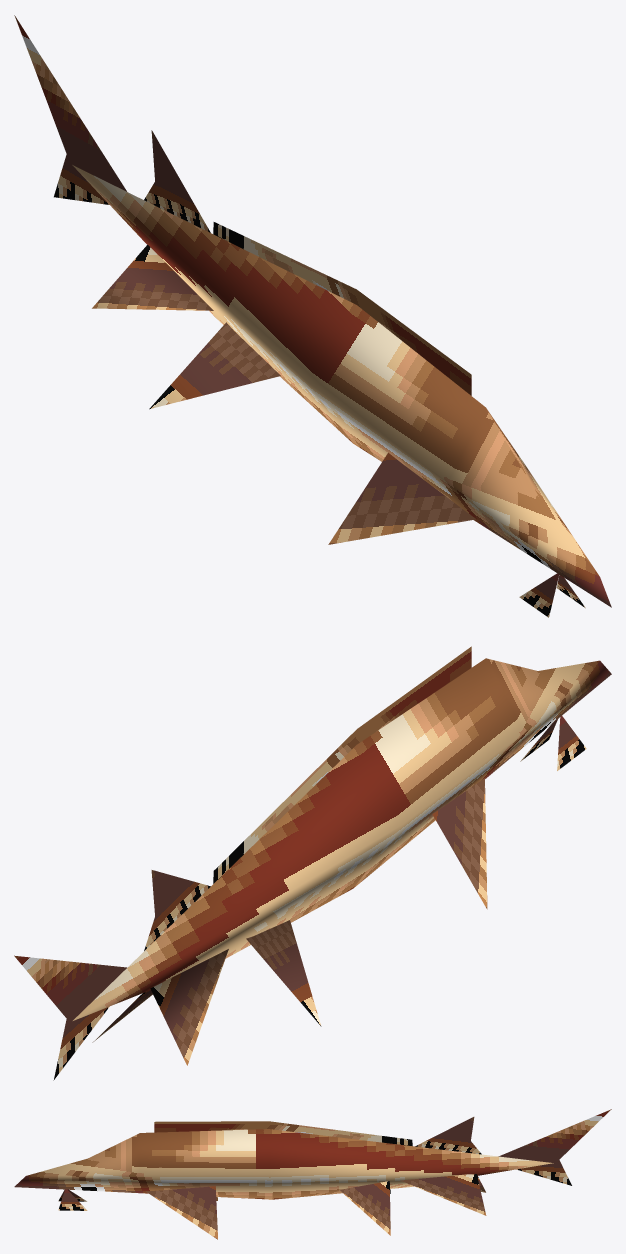
3 renders of one model, top to bottom at view 1: azimuth 30°, elevation 25°; view 2: azimuth 150°, elevation 25°; view 3: azimuth 270°, elevation 25°, orthographic. The views are drawn at different scales.
Parts seen in each view (by area): view 1: 4800fish10_r; view 2: 4800fish10_r; view 3: 4800fish10_r.
Boxes of the visible parts, x1,y1,x2,y2 form: 4800fish10_r: (14, 15, 611, 617); 4800fish10_r: (14, 646, 611, 1080); 4800fish10_r: (14, 1109, 611, 1239).
Size of the model in its own units: 0.189 by 0.2341 by 1.14.
Materials: 2 (2 with a texture image).
